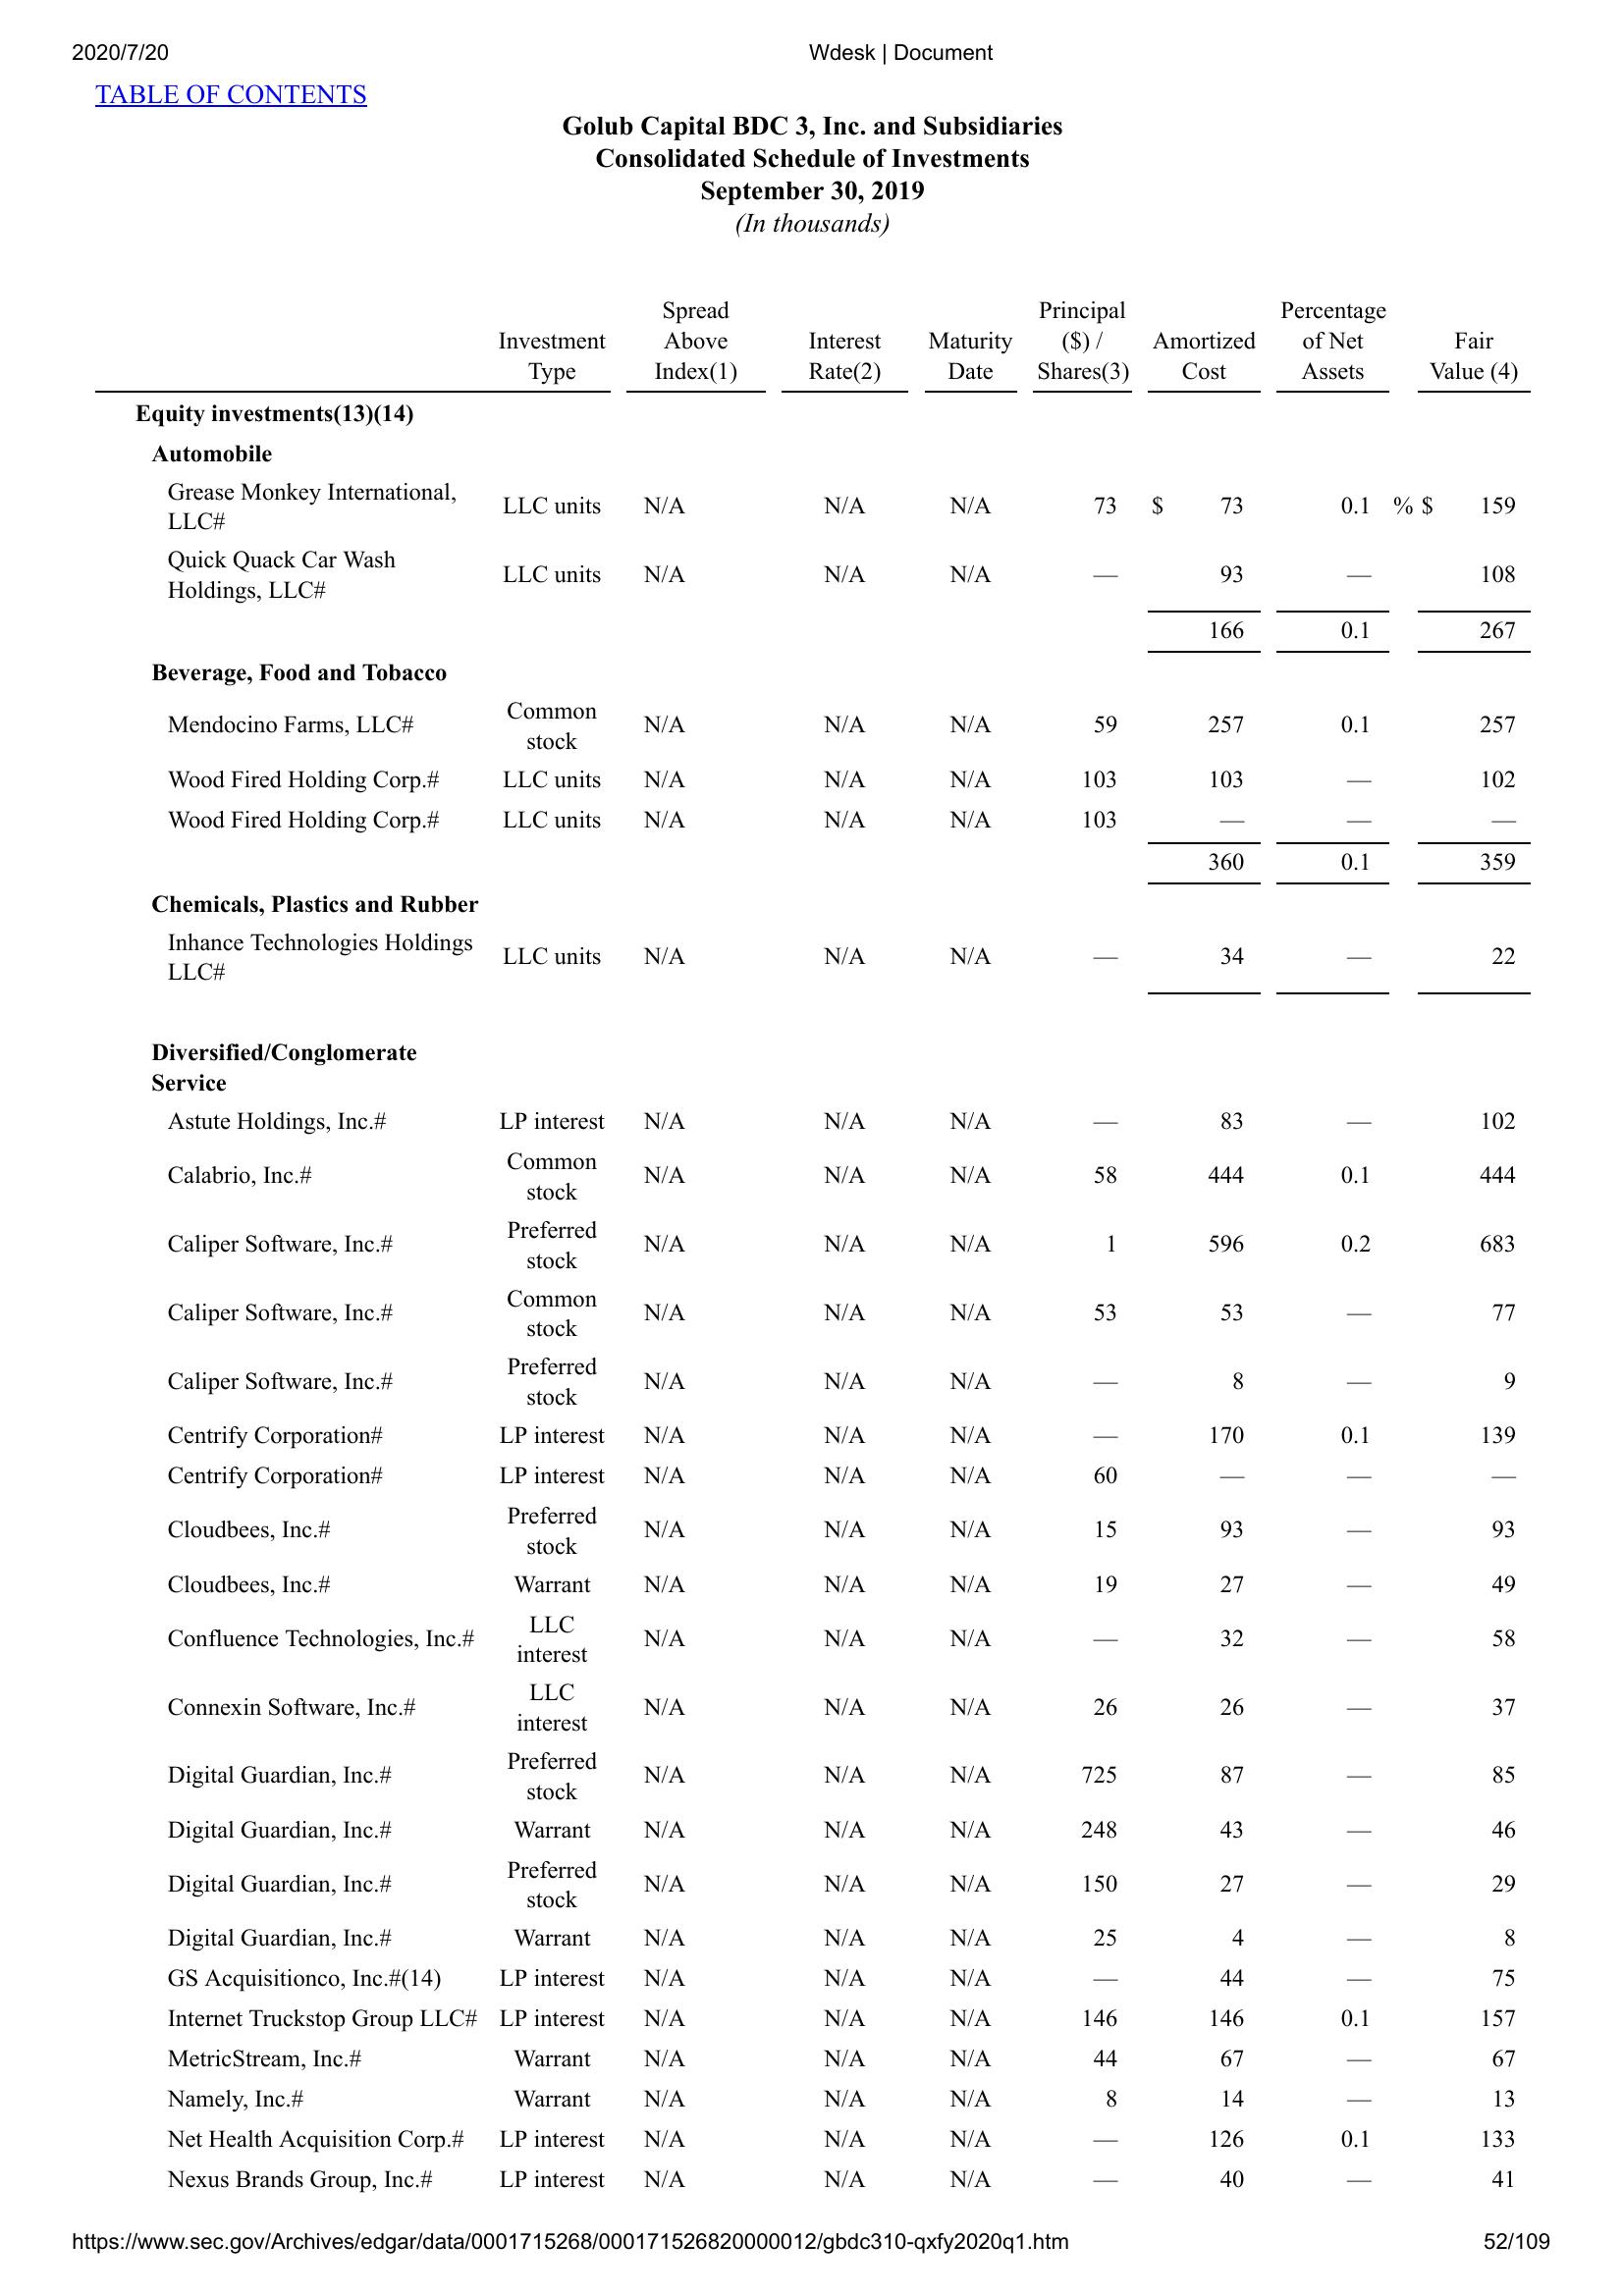table: (93, 283, 1535, 2206)
